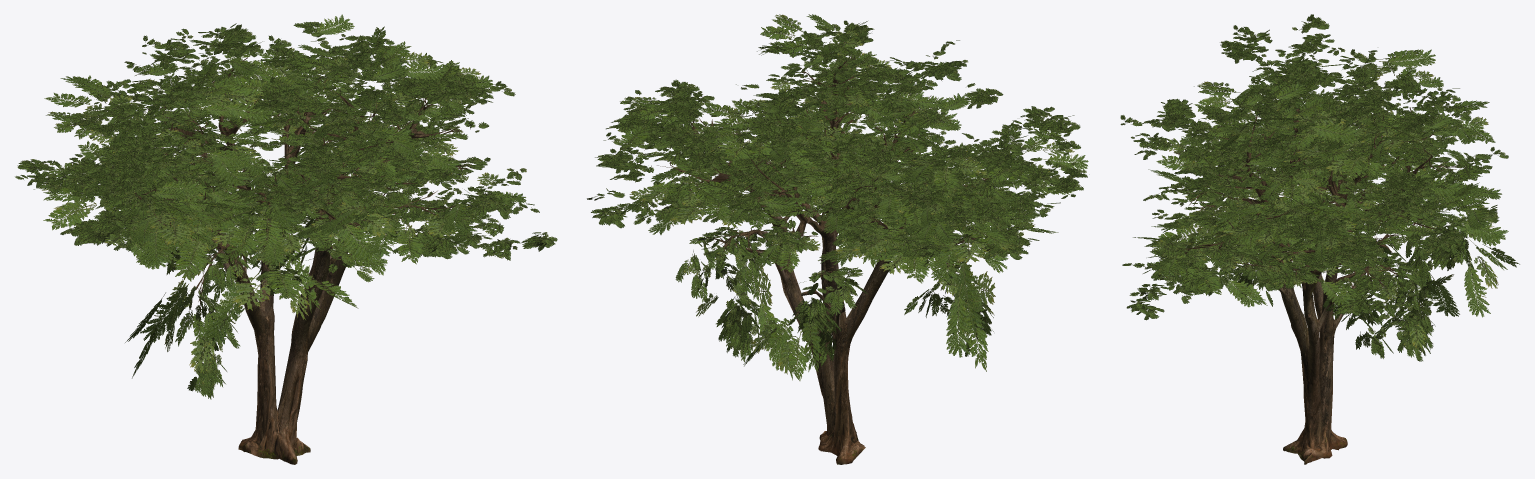
Rendered from generic-broadleaf-tree.glb.
3 views of the same model, side by side, from view 1: azimuth 30°, elevation 25°; view 2: azimuth 150°, elevation 25°; view 3: azimuth 270°, elevation 25° (orthographic). The views are drawn at different scales.
Visible parts, largest first — view 1: tree_lod0_leaves, tree_lod1_leaves, tree_lod0_trunk, tree_lod1_trunk, tree_lod0_branches, tree_lod1_branches; view 2: tree_lod0_leaves, tree_lod1_leaves, tree_lod0_trunk, tree_lod1_trunk, tree_lod0_branches, tree_lod1_branches; view 3: tree_lod0_leaves, tree_lod1_leaves, tree_lod0_trunk, tree_lod1_trunk, tree_lod0_branches, tree_lod1_branches.
Part boxes in pixels (x1,y1,x2,y2): tree_lod0_leaves: [15, 21, 557, 399]; tree_lod1_leaves: [33, 14, 526, 378]; tree_lod0_trunk: [211, 165, 358, 464]; tree_lod1_trunk: [212, 168, 362, 463]; tree_lod0_branches: [100, 57, 470, 312]; tree_lod1_branches: [167, 69, 434, 266]; tree_lod0_leaves: [587, 20, 1087, 366]; tree_lod1_leaves: [596, 14, 1088, 380]; tree_lod0_trunk: [748, 153, 900, 464]; tree_lod1_trunk: [750, 153, 899, 462]; tree_lod0_branches: [657, 42, 1022, 288]; tree_lod1_branches: [682, 61, 972, 289]; tree_lod0_leaves: [1120, 14, 1508, 361]; tree_lod1_leaves: [1133, 49, 1519, 348]; tree_lod0_trunk: [1261, 205, 1379, 464]; tree_lod1_trunk: [1263, 216, 1379, 461]; tree_lod0_branches: [1173, 80, 1461, 313]; tree_lod1_branches: [1206, 107, 1443, 281].
Bounding box in the file's own units: 12.73 × 10.22 × 9.79.
Materials: 3 (3 with a texture image).
